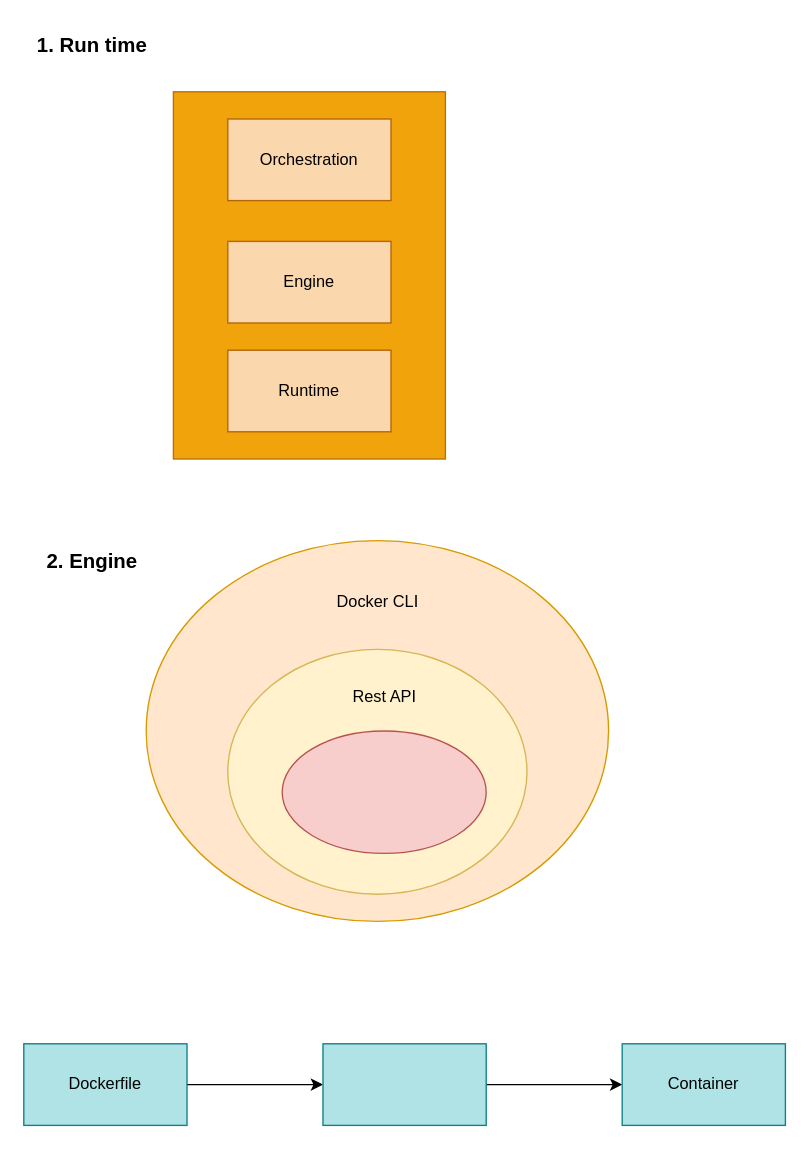
The diagram is 809 pixels wide and 1149 high, and some of its shapes have lost their labels. Each missing label, with the centre of its shape:
"Image" goes at pixel 404 1083.
"Server, Docker Deamon" goes at pixel 383 791.
